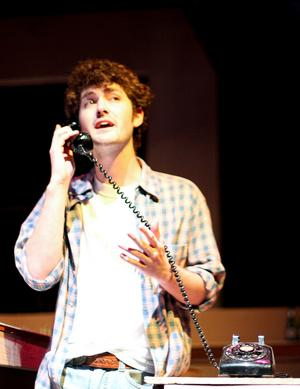person: (14, 55, 226, 389)
